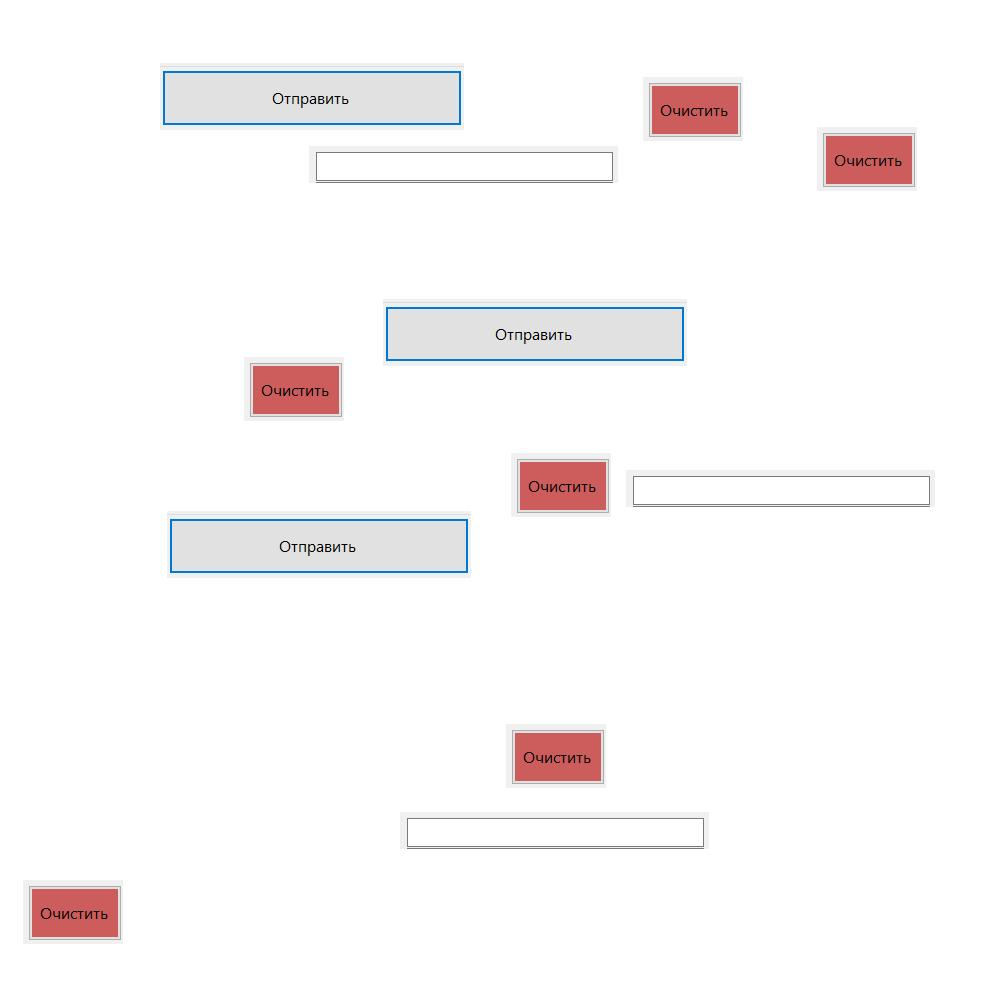Button: (167, 511, 471, 578), (160, 63, 464, 130), (383, 299, 687, 366), (506, 724, 606, 788), (643, 77, 743, 141), (511, 453, 611, 517), (23, 880, 123, 944), (817, 127, 917, 191), (244, 357, 344, 421)
EditText-: (400, 812, 709, 849), (309, 146, 618, 183), (626, 470, 935, 507)
